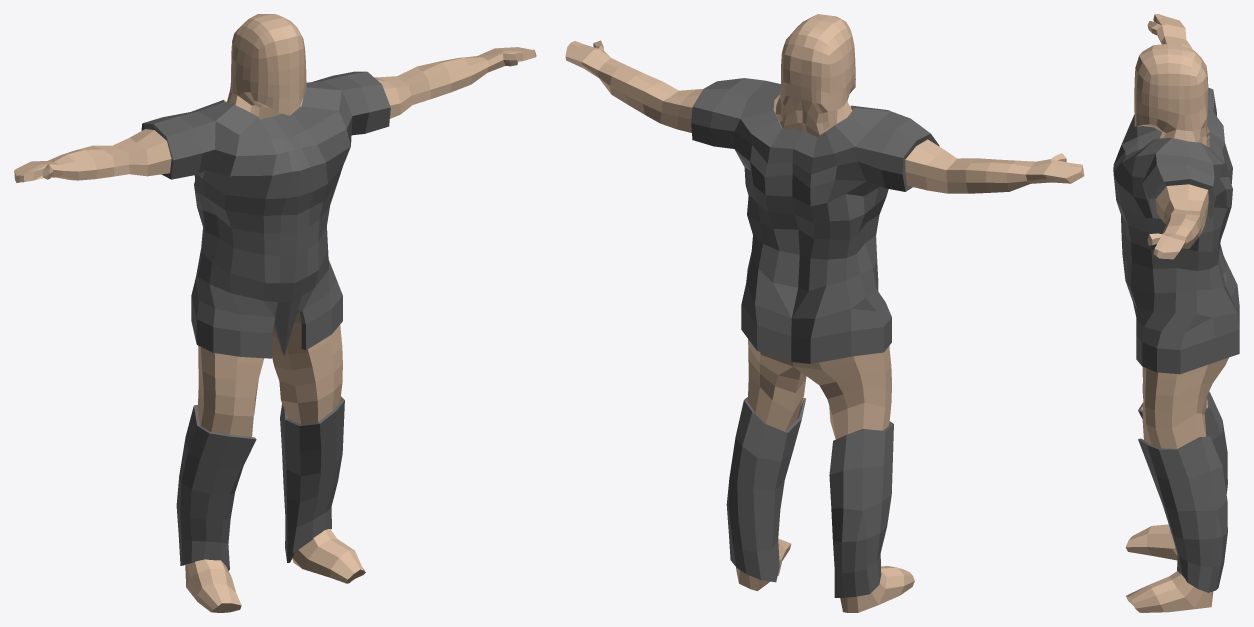
Rendered from ArenaKnight.fbx.
3 views of the same model, side by side, from view 1: azimuth 30°, elevation 25°; view 2: azimuth 150°, elevation 25°; view 3: azimuth 270°, elevation 25° (orthographic). The views are drawn at different scales.
Parts seen in each view (by area): view 1: Knight; view 2: Knight; view 3: Knight.
Part boxes in pixels (x1,y1,x2,y2): Knight: [14, 14, 536, 612]; Knight: [565, 14, 1084, 612]; Knight: [1113, 14, 1239, 612].
Size of the model in its own units: 403 by 422 by 90.
